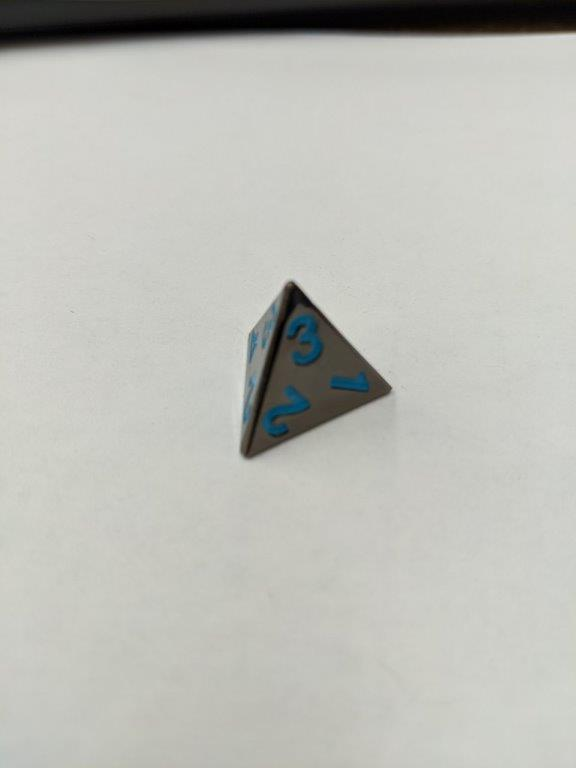d4-3: (234, 279, 396, 462)
